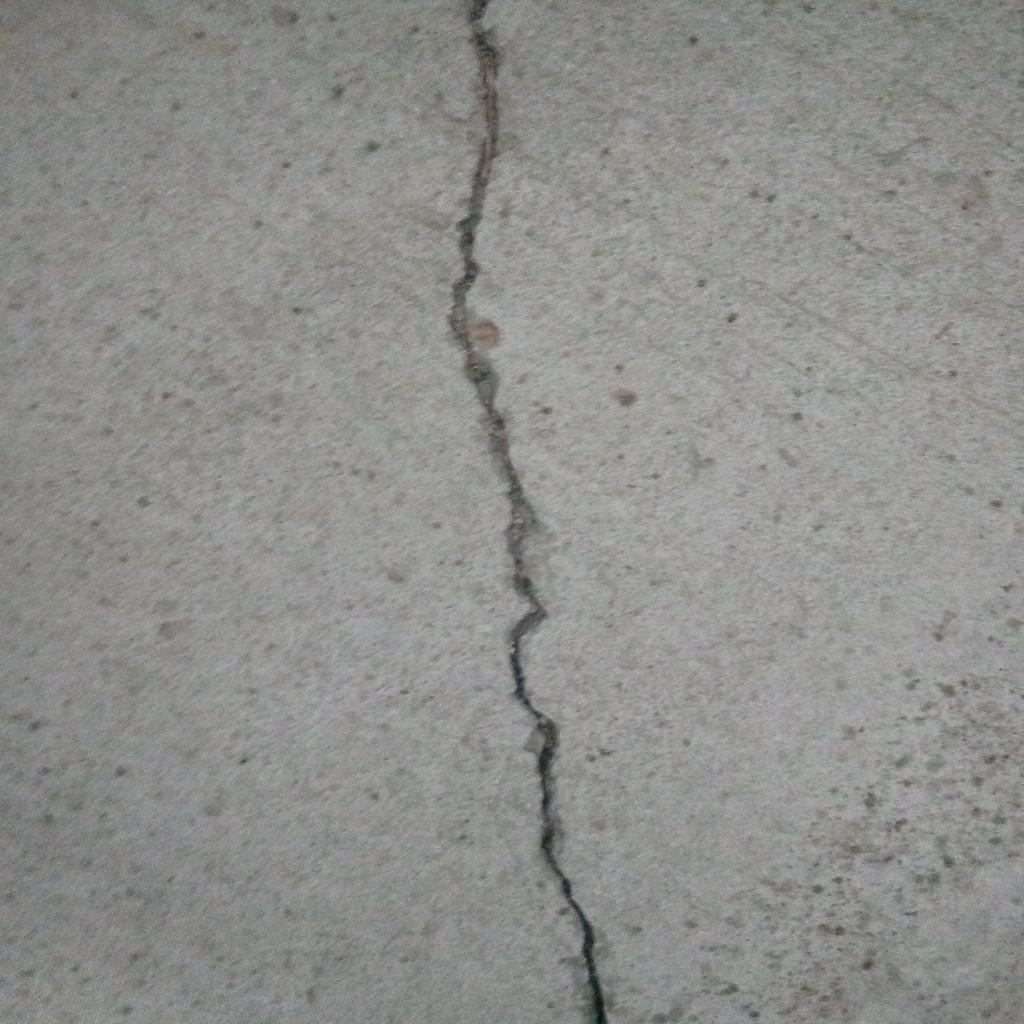Crack: (446, 1, 609, 1024)
